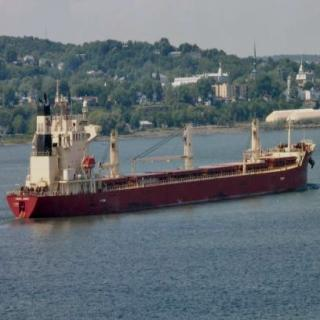Bulk Carrier: (6, 98, 315, 212)
